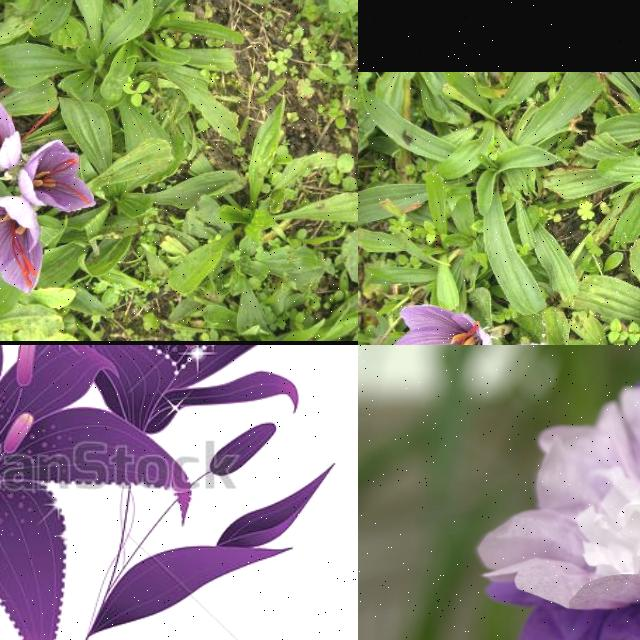flower: (18, 138, 96, 214), (0, 75, 58, 177), (0, 195, 45, 296), (391, 304, 494, 345)
